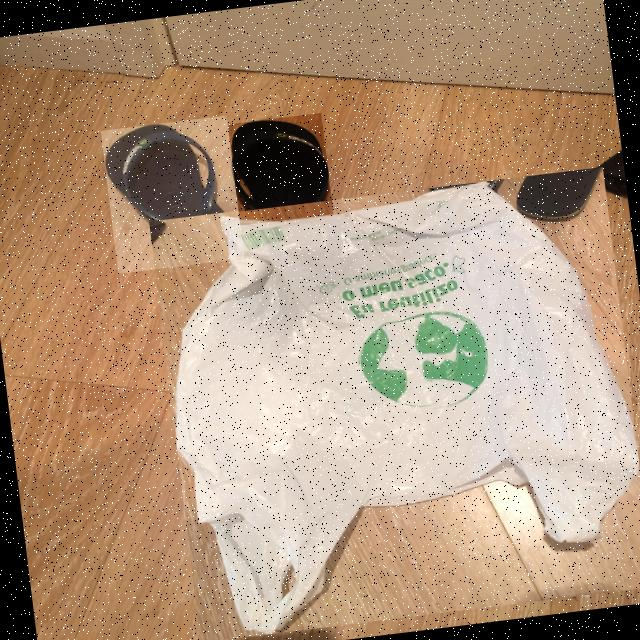Shoe: (105, 124, 242, 264), (232, 121, 328, 223)
Single-use carrier bag: (176, 181, 638, 634)
